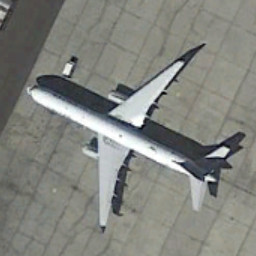Airplane: (12, 43, 240, 235)
